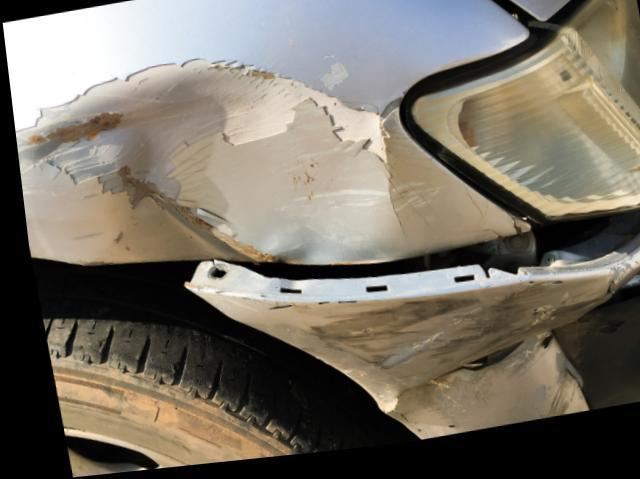dent: (12, 65, 519, 270)
dislocated part: (160, 221, 640, 447)
scratch: (298, 290, 587, 445)
